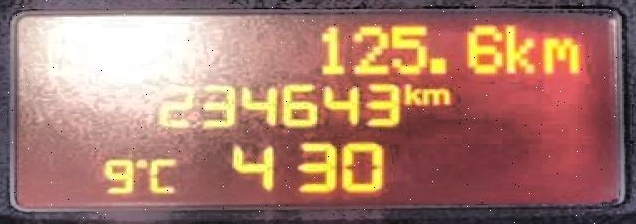-: (425, 55, 446, 75)
0: (340, 137, 385, 192)
1: (315, 21, 348, 77)
2: (350, 22, 388, 76), (157, 81, 193, 128)
3: (293, 137, 335, 195), (198, 82, 235, 127), (363, 80, 398, 127)
4: (230, 142, 271, 191), (320, 82, 358, 125), (241, 82, 275, 126)
5: (388, 21, 427, 76)
6: (462, 20, 502, 75), (280, 81, 316, 126)
9: (103, 157, 132, 192)
X: (540, 34, 580, 75), (503, 22, 533, 75), (148, 151, 178, 196), (420, 85, 450, 104), (401, 80, 420, 105)
